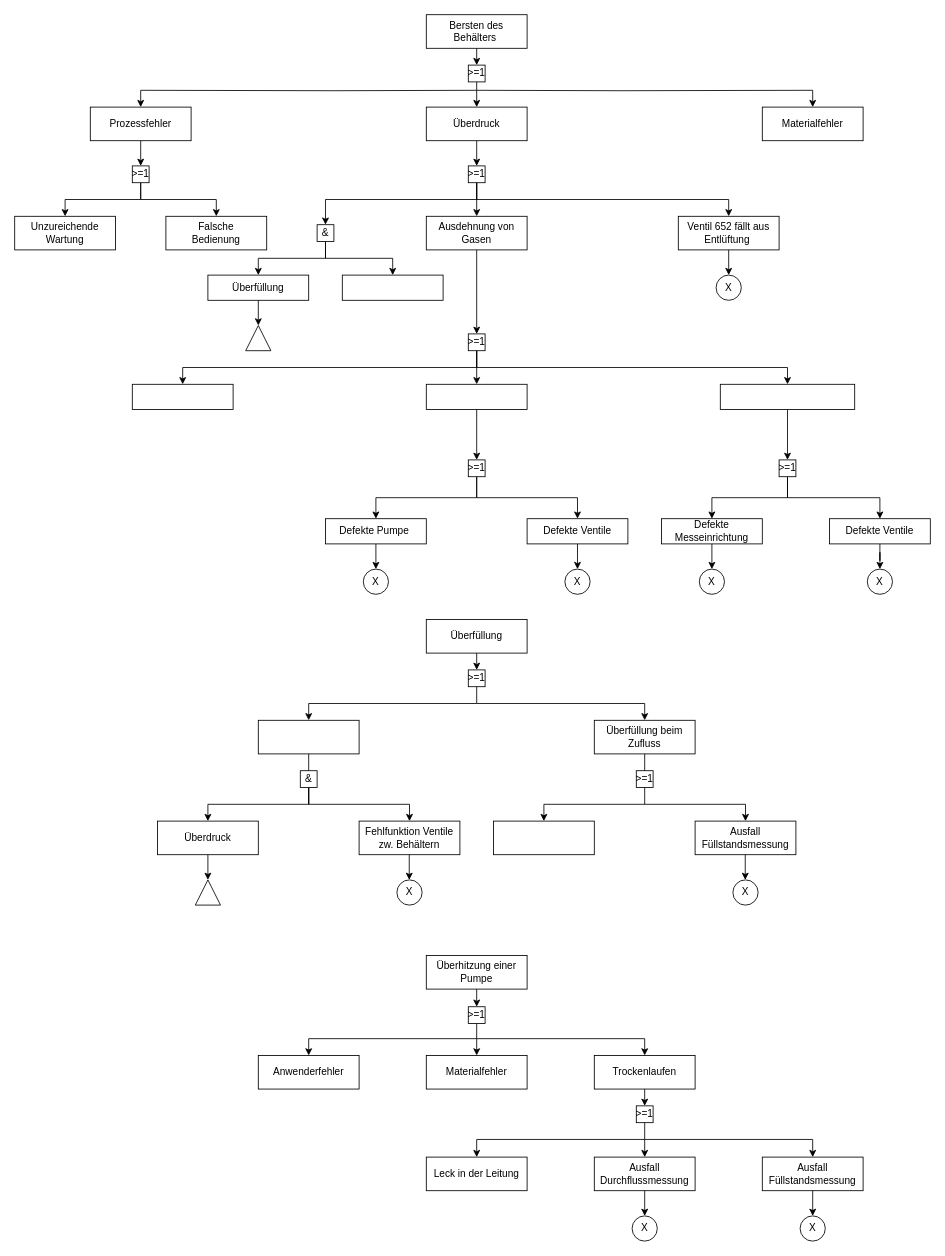
Image size: 945x1256. Some labels were removed from this diagram. Each missing label, with the box of its shape:
Aufheizen: (341, 274, 443, 300)
Ausfall der Kühlung: (425, 383, 527, 410)
Ausfall des Rührers: (131, 383, 233, 410)
Falsche Stoffzusammensetzung: (719, 383, 855, 410)
Menschliches Versagen: (493, 820, 594, 855)
Rücklauf: (257, 719, 359, 754)
